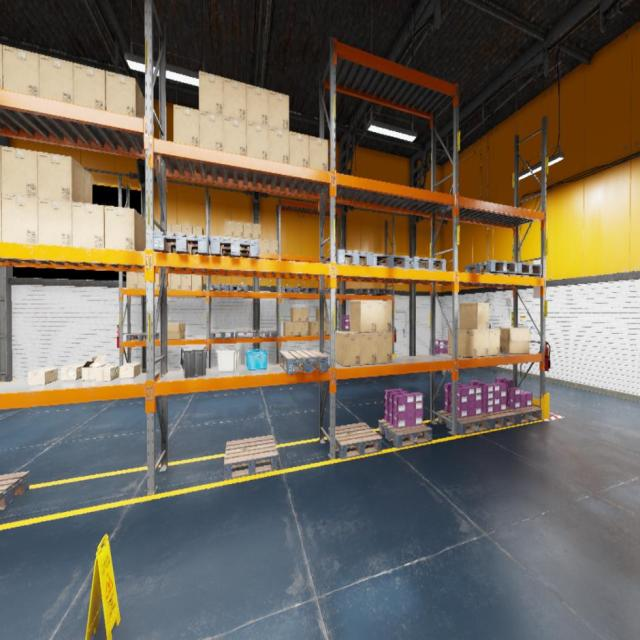box: (38, 152, 92, 203), (2, 45, 40, 96), (1, 146, 38, 198), (105, 205, 146, 250), (106, 71, 145, 118), (1, 194, 38, 243), (40, 54, 74, 104), (38, 199, 72, 246), (72, 202, 105, 248), (74, 63, 106, 110), (200, 71, 223, 116), (223, 77, 246, 121), (174, 105, 198, 146), (268, 90, 290, 132), (246, 84, 268, 126), (223, 116, 246, 156), (200, 111, 223, 150), (448, 328, 477, 358), (336, 331, 360, 366), (350, 301, 376, 333), (246, 122, 268, 159), (268, 127, 290, 164), (459, 302, 489, 329), (499, 328, 530, 353), (462, 328, 488, 357), (309, 135, 328, 171), (290, 132, 308, 168), (82, 354, 105, 380), (28, 368, 58, 385), (376, 301, 392, 332), (361, 332, 376, 365), (377, 332, 392, 364), (95, 364, 118, 382), (60, 364, 84, 381), (489, 328, 500, 356), (120, 363, 140, 378), (168, 323, 185, 339), (192, 274, 204, 290), (126, 272, 137, 288), (181, 274, 191, 290), (171, 274, 181, 290), (309, 321, 319, 336), (243, 222, 252, 238), (283, 322, 293, 336), (291, 308, 301, 322), (138, 272, 146, 289), (0, 43, 3, 88), (252, 238, 261, 253), (224, 220, 233, 235), (192, 226, 204, 237), (316, 308, 325, 322), (252, 224, 261, 238), (293, 322, 301, 336), (270, 240, 278, 254), (261, 239, 269, 253), (182, 225, 192, 236), (215, 235, 225, 246), (172, 224, 181, 236), (318, 322, 326, 335), (301, 308, 308, 322), (301, 322, 308, 336), (235, 222, 242, 236), (244, 237, 252, 248), (155, 273, 160, 289), (235, 236, 242, 247), (226, 236, 233, 246), (326, 321, 330, 335), (0, 145, 1, 194), (154, 222, 160, 230), (0, 194, 1, 241), (167, 274, 170, 289), (167, 224, 171, 232)
pallets: (224, 435, 278, 480), (328, 422, 382, 460), (378, 419, 432, 448), (153, 231, 211, 255), (438, 410, 491, 435), (280, 350, 327, 374), (210, 236, 258, 259), (0, 471, 29, 509), (325, 249, 373, 266), (465, 260, 517, 275), (480, 410, 518, 429), (507, 407, 542, 424), (373, 254, 409, 269), (409, 257, 446, 271), (506, 263, 542, 277), (127, 333, 159, 341), (210, 331, 233, 339), (235, 330, 256, 338), (354, 288, 377, 295), (229, 284, 248, 292), (209, 284, 229, 291), (371, 288, 392, 294), (258, 330, 276, 337), (298, 288, 317, 294), (317, 288, 336, 294), (280, 286, 298, 292)
